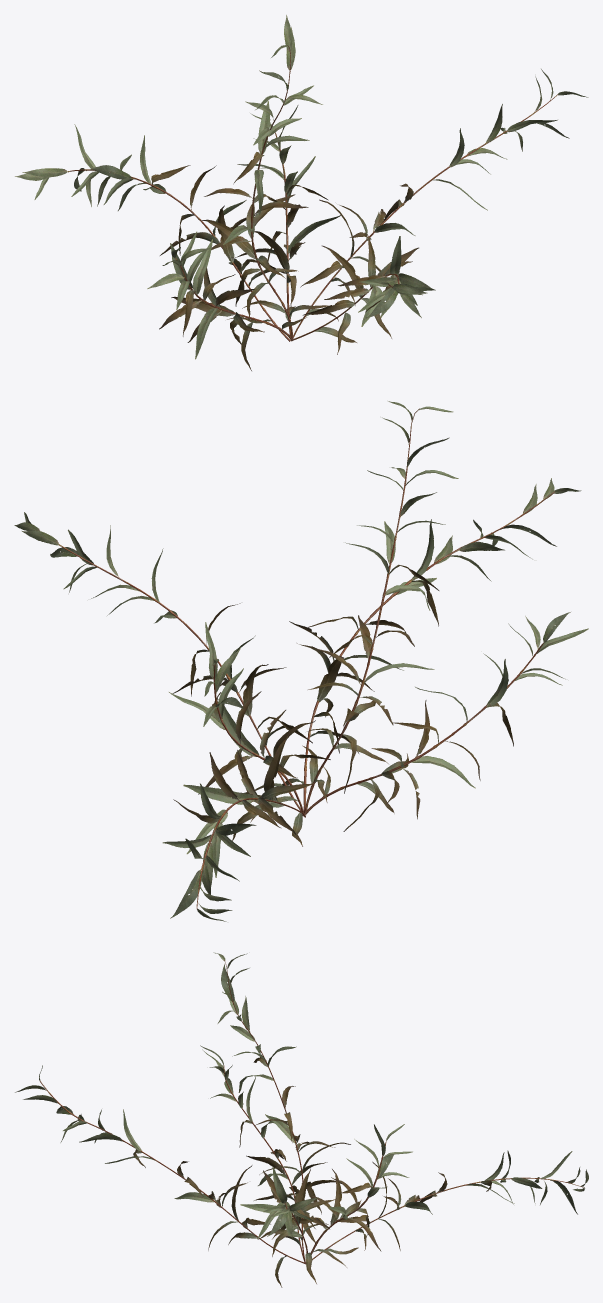
Rendered from shrub-wide.glb.
3 renders of one model, top to bottom at view 1: azimuth 30°, elevation 25°; view 2: azimuth 150°, elevation 25°; view 3: azimuth 270°, elevation 25°, orthographic. The views are drawn at different scales.
Visible parts, largest first — view 1: shrub_02_c; view 2: shrub_02_c; view 3: shrub_02_c.
Boxes of the visible parts, bbox=[...] form: shrub_02_c: bbox=[15, 15, 588, 370]; shrub_02_c: bbox=[14, 401, 588, 921]; shrub_02_c: bbox=[15, 952, 588, 1287].
Size of the model in its own units: 1.77 by 1.31 by 2.29.
Materials: 1 (1 with a texture image).
